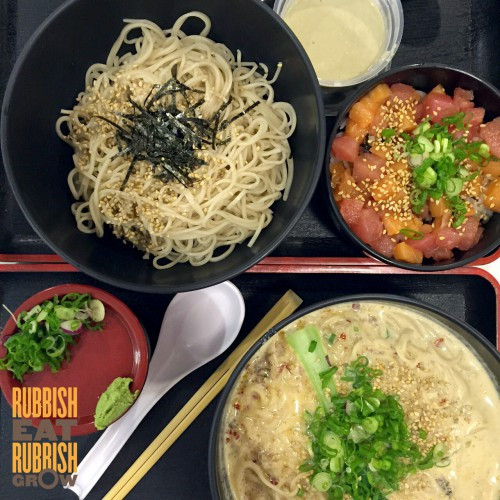Soba: (66, 22, 306, 263)
